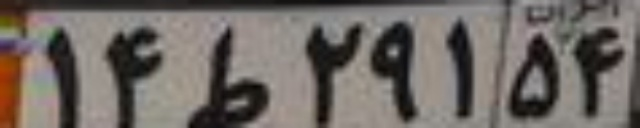1: (42, 27, 83, 127), (444, 16, 476, 115)
2: (302, 22, 359, 126)
4: (105, 26, 161, 127), (569, 30, 627, 117)
5: (505, 31, 558, 117)
9: (368, 21, 419, 119)
taa: (176, 24, 273, 127)
